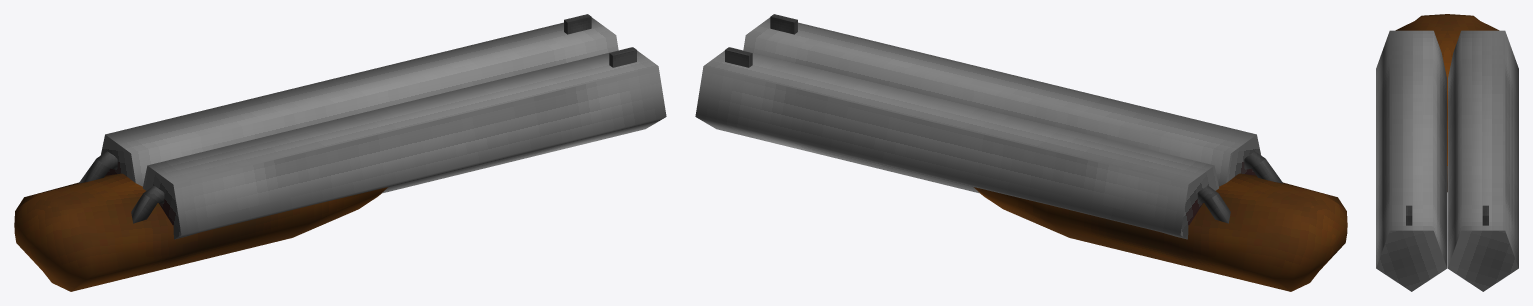
File: Shootgun.obj
The picture shows the model from 3 angles, left to right: view 1: azimuth 30°, elevation 25°; view 2: azimuth 150°, elevation 25°; view 3: azimuth 270°, elevation 25°; orthographic projection. The views are drawn at different scales.
Parts seen in each view (by area): view 1: Box001; view 2: Box001; view 3: Box001.
Boxes of the visible parts, x1=… form: Box001: x1=14, y1=14, x2=666, y2=291; Box001: x1=695, y1=14, x2=1347, y2=291; Box001: x1=1376, y1=14, x2=1518, y2=291.
Size of the model in its own units: 69.17 by 12.65 by 16.96.
